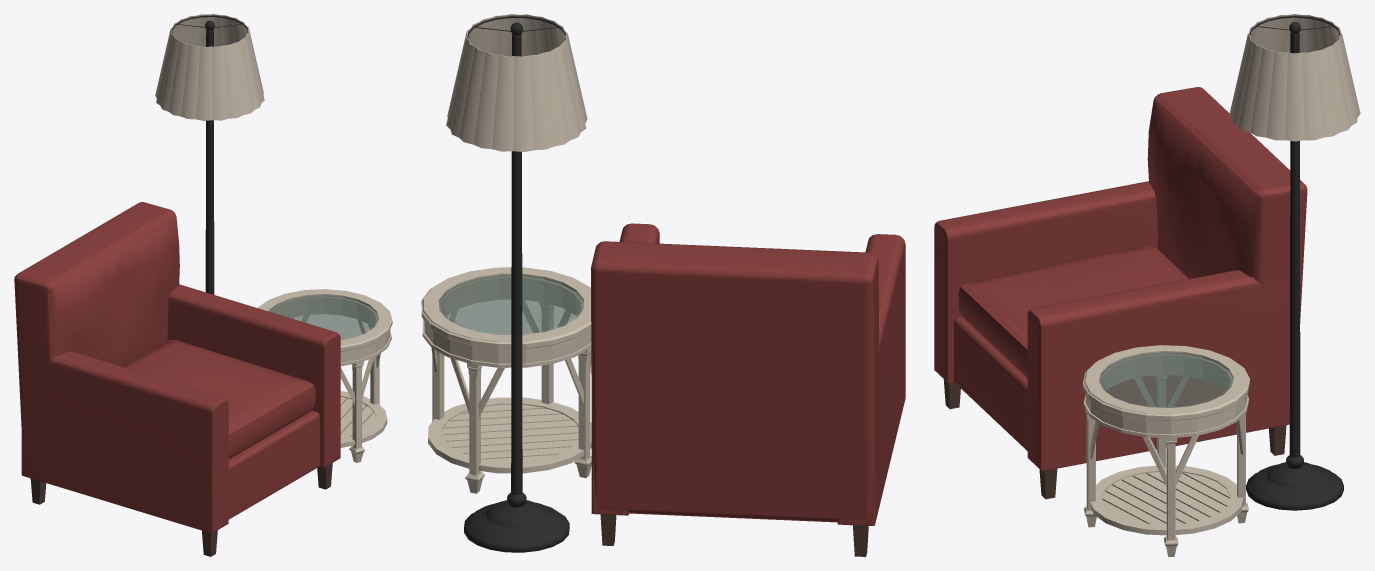
Rendered from FranklinFurniture.fbx.
3 renders of one model, left to right at view 1: azimuth 30°, elevation 25°; view 2: azimuth 150°, elevation 25°; view 3: azimuth 270°, elevation 25°, orthographic. The views are drawn at different scales.
Visible parts, largest first — view 1: ArmRest1, Back, ArmRest2, Seat_Cushion, Shade, Bottom, Tabletop, Glass1, Pole, Leg_Front1, Bottom_Ring; view 2: Back, Shade, Tabletop, Pole, ArmRest1, Glass1, Bottom_Ring, Leg_Front3, Leg_Front, ArmRest2, Leg_Front1, Bottom_Board1 (+7 smaller); view 3: ArmRest2, Back, ArmRest1, Shade, Seat_Cushion, Tabletop, Pole, Glass1, Bottom, Bottom_Ring, Leg_Front2, Leg_Front1 (+9 smaller).
Boxes of the visible parts, <box> form: ArmRest1: <box>21,351,228,533</box>; Back: <box>14,202,179,478</box>; ArmRest2: <box>167,284,340,467</box>; Seat_Cushion: <box>122,339,315,459</box>; Shade: <box>155,14,264,120</box>; Bottom: <box>228,410,319,519</box>; Tabletop: <box>258,289,392,366</box>; Glass1: <box>269,295,378,340</box>; Pole: <box>205,20,214,294</box>; Leg_Front1: <box>349,361,365,462</box>; Bottom_Ring: <box>340,391,387,447</box>; Back: <box>591,241,879,522</box>; Shade: <box>446,14,587,151</box>; Tabletop: <box>421,267,591,367</box>; Pole: <box>464,22,569,552</box>; ArmRest1: <box>837,234,905,525</box>; Glass1: <box>439,275,583,334</box>; Bottom_Ring: <box>428,397,591,473</box>; Leg_Front3: <box>465,363,484,493</box>; Leg_Front: <box>574,348,591,477</box>; ArmRest2: <box>591,223,659,515</box>; Leg_Front1: <box>539,302,553,404</box>; Bottom_Board1: <box>442,426,578,441</box>; ArmRest2: <box>1027,270,1289,471</box>; Back: <box>1147,87,1307,323</box>; ArmRest1: <box>934,181,1157,383</box>; Shade: <box>1229,14,1360,141</box>; Seat_Cushion: <box>958,246,1188,378</box>; Tabletop: <box>1082,345,1249,438</box>; Pole: <box>1246,22,1343,510</box>; Glass1: <box>1099,352,1233,407</box>; Bottom: <box>953,317,1027,450</box>; Bottom_Ring: <box>1090,465,1243,535</box>; Leg_Front2: <box>1164,438,1178,556</box>; Leg_Front1: <box>1084,409,1096,527</box>.
Size of the model in its own units: 5.52 by 5.85 by 4.83.
